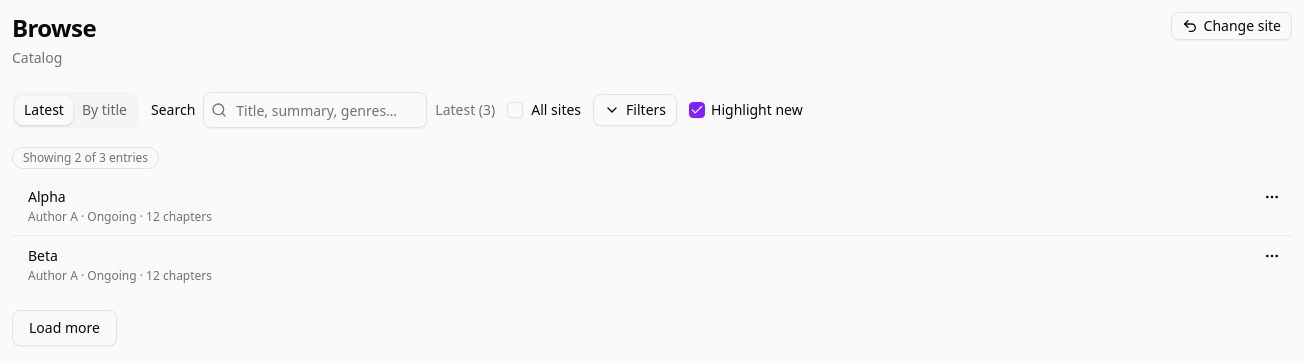
Scenario: BrowsePage pagination › live search: debounced q hits /search and walks the opaque cursor
Expected: the text "Alpha" is shown, [28,187,66,207]
Type "fix" into the search field labelled "Search" at point(315, 110), box [203,92,427,128]
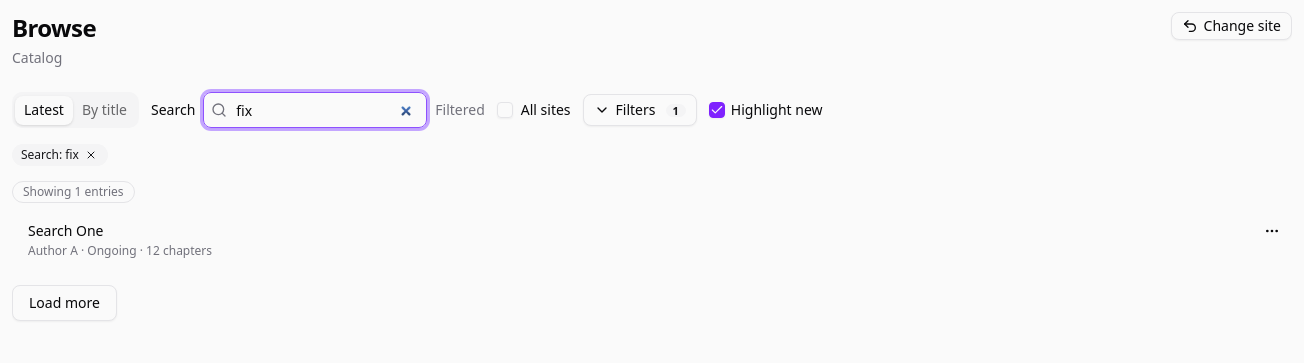
Result: the text "Search One" is shown at [28,221,103,241]
Click the button "Load more" at point(64, 303), box [12,285,117,321]
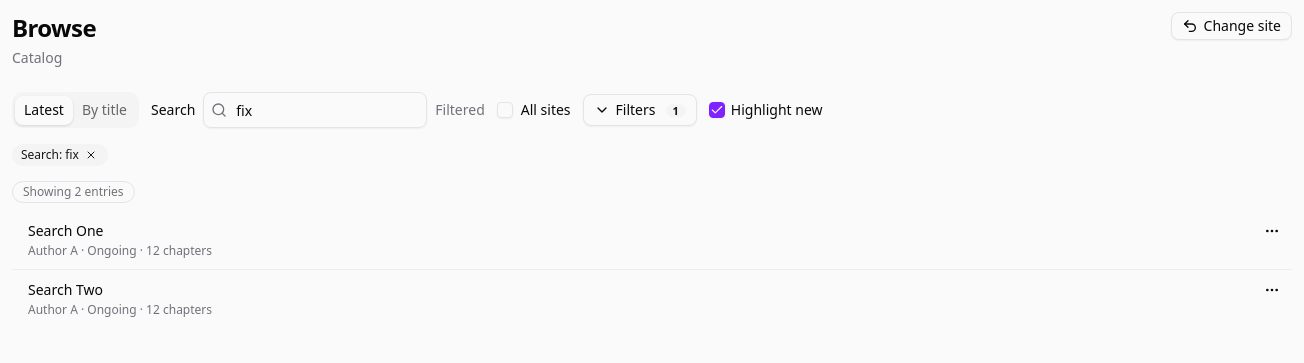
Result: the text "Search Two" is shown at [28,280,103,300]
Result: the button "Load more" is gone
